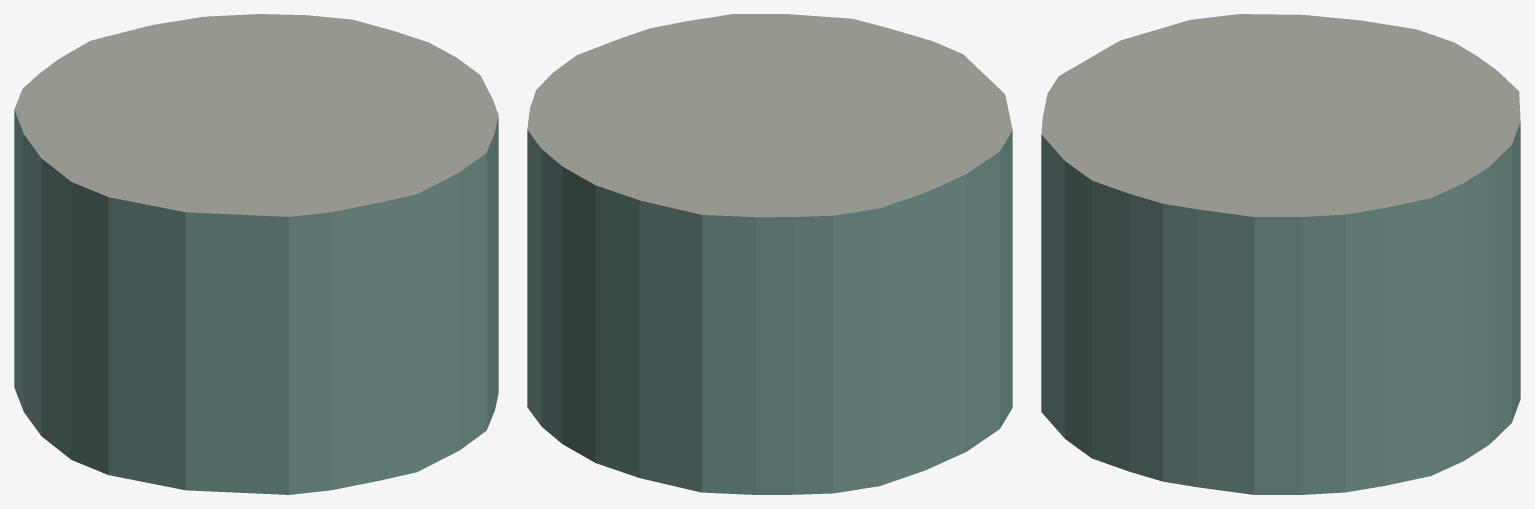
Rendered from nyc-1090173-0.glb.
3 renders of one model, left to right at view 1: azimuth 30°, elevation 25°; view 2: azimuth 150°, elevation 25°; view 3: azimuth 270°, elevation 25°, orthographic.
Parts seen in each view (by area): view 1: nyc-1090173-0; view 2: nyc-1090173-0; view 3: nyc-1090173-0.
Boxes of the visible parts, x1,y1,x2,y2 form: nyc-1090173-0: (14, 14, 498, 494); nyc-1090173-0: (527, 14, 1012, 494); nyc-1090173-0: (1041, 14, 1520, 494).
Bounding box in the file's own units: 7.16 × 4.57 × 7.14.
